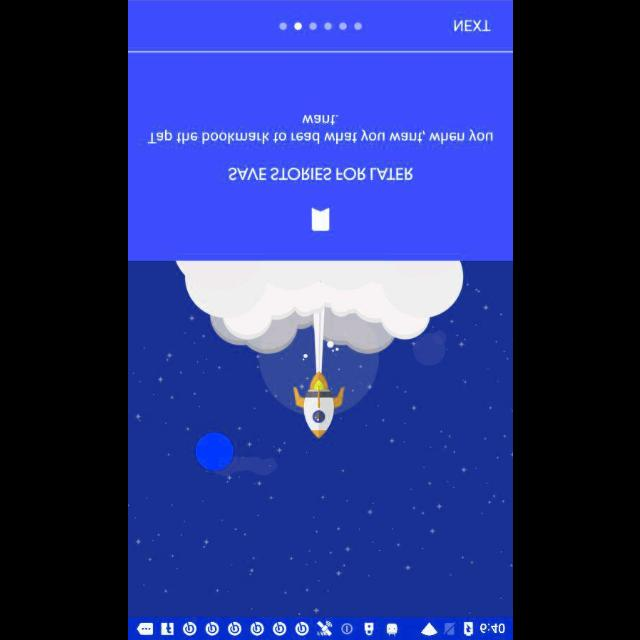icon: (310, 206, 330, 232)
image: (128, 260, 512, 616)
pageindicator: (278, 22, 362, 31)
text: (146, 114, 492, 144), (227, 167, 413, 181), (452, 18, 490, 32)
uppertaskbar: (128, 617, 512, 639)
